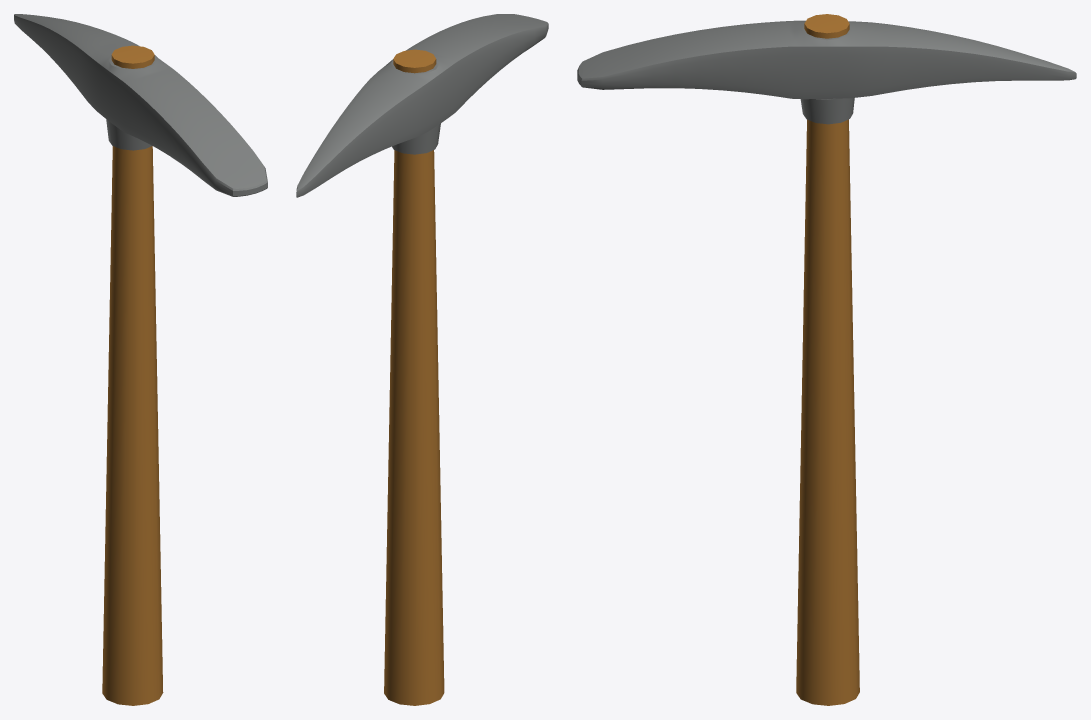
Rendered from KazmaLevel3.fbx.
3 views of the same model, side by side, from view 1: azimuth 30°, elevation 25°; view 2: azimuth 150°, elevation 25°; view 3: azimuth 270°, elevation 25° (orthographic). The views are drawn at different scales.
Parts seen in each view (by area): view 1: KazmaLevel3; view 2: KazmaLevel3; view 3: KazmaLevel3.
Part boxes in pixels (box(x1,y1,x2,y2)): KazmaLevel3: box(14, 14, 267, 705); KazmaLevel3: box(296, 14, 548, 705); KazmaLevel3: box(577, 14, 1076, 705).
Size of the model in its own units: 16.03 by 186 by 126.
